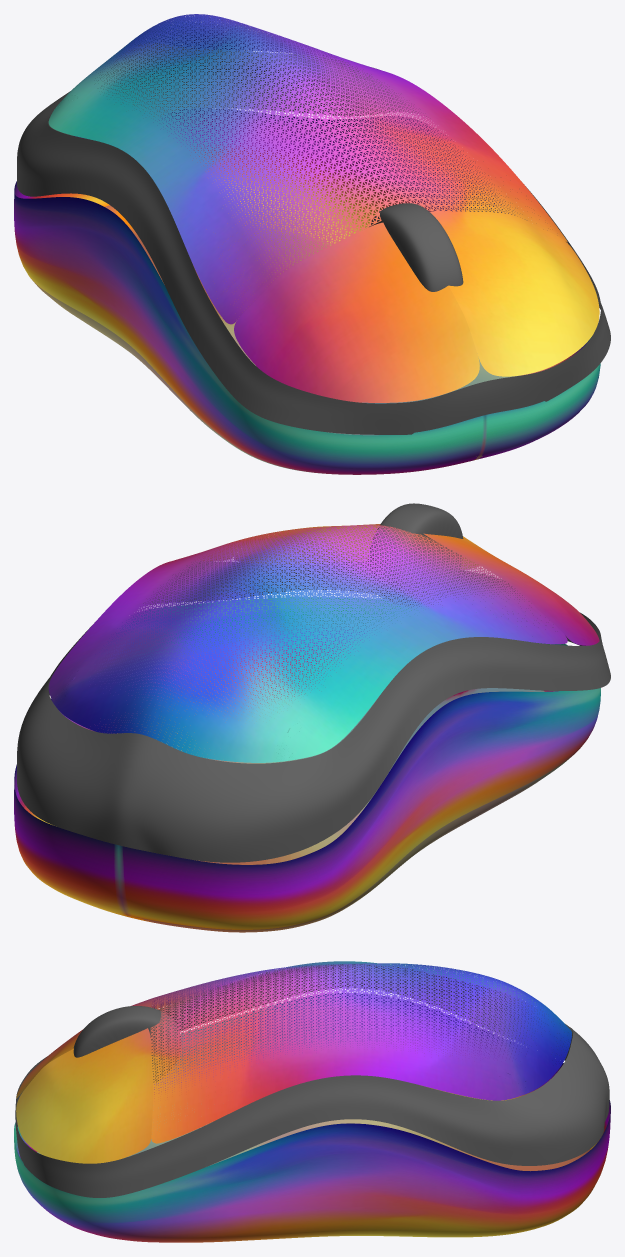
File: mouse_gaming.glb
The picture shows the model from 3 angles, top to bottom: view 1: azimuth 30°, elevation 25°; view 2: azimuth 150°, elevation 25°; view 3: azimuth 270°, elevation 25°; orthographic projection. The views are drawn at different scales.
Parts seen in each view (by area): view 1: Plane_2, Plane.002_4, Plane.001_3, Plane.004_6, Plane.003_5, Cylinder_7; view 2: Plane_2, Plane.002_4, Plane.001_3, Cylinder_7, Plane.004_6, Plane.003_5; view 3: Plane_2, Plane.002_4, Plane.001_3, Plane.003_5, Cylinder_7, Plane.004_6.
Boxes of the visible parts, left/top/right/bottom form: Plane_2: left=48, top=14, right=567, bottom=324; Plane.002_4: left=14, top=108, right=600, bottom=474; Plane.001_3: left=17, top=43, right=610, bottom=434; Plane.004_6: left=234, top=222, right=479, bottom=402; Plane.003_5: left=429, top=211, right=599, bottom=376; Cylinder_7: left=369, top=203, right=463, bottom=291; Plane_2: left=48, top=524, right=567, bottom=762; Plane.002_4: left=14, top=597, right=600, bottom=932; Plane.001_3: left=17, top=561, right=610, bottom=862; Cylinder_7: left=368, top=503, right=463, bottom=607; Plane.004_6: left=423, top=533, right=599, bottom=645; Plane.003_5: left=234, top=524, right=478, bottom=569; Plane_2: left=150, top=961, right=571, bottom=1143; Plane.002_4: left=14, top=993, right=610, bottom=1242; Plane.001_3: left=15, top=964, right=609, bottom=1197; Plane.003_5: left=16, top=1028, right=153, bottom=1163; Cylinder_7: left=73, top=1006, right=180, bottom=1082; Plane.004_6: left=16, top=998, right=152, bottom=1098.
Size of the model in its own units: 2.69 by 1.85 by 4.63.
Materials: 2 (1 with a texture image).
